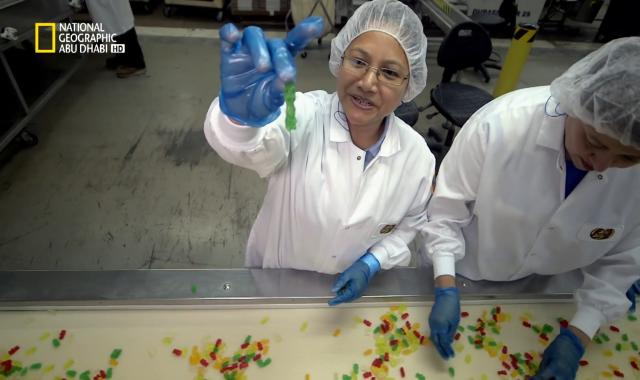hairnet: (552, 36, 639, 142), (328, 2, 425, 91)
